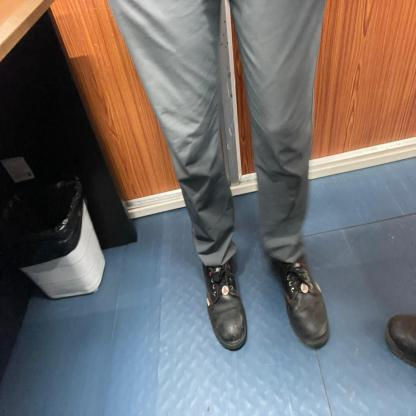bota: (270, 254, 331, 350), (201, 256, 248, 352), (381, 303, 416, 370)
